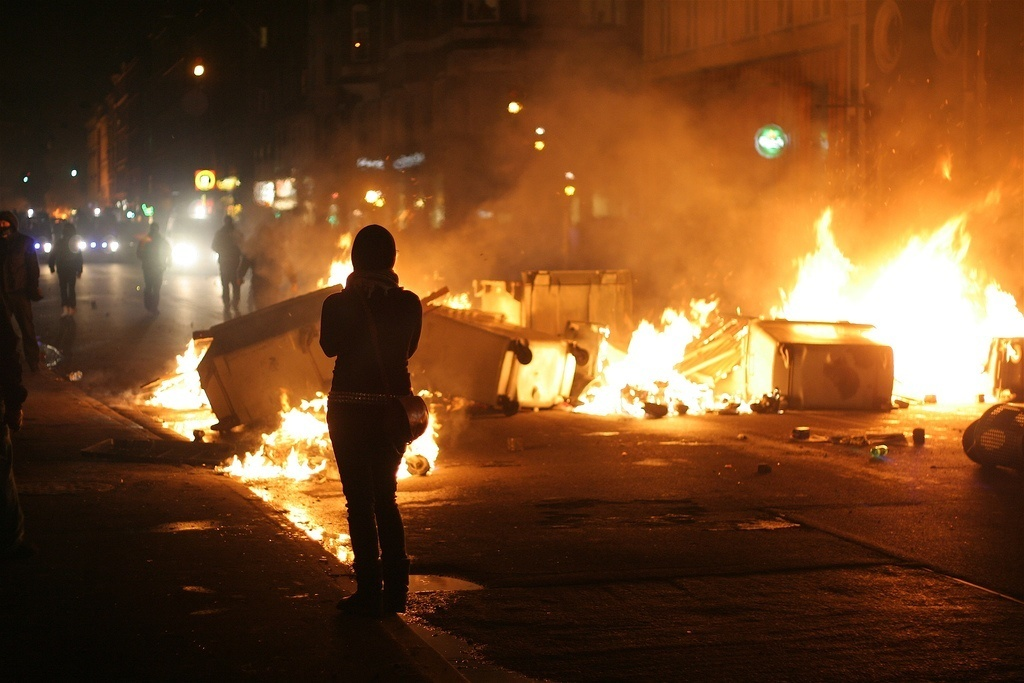fire: (491, 200, 1023, 424), (231, 386, 330, 478), (148, 331, 213, 424), (398, 391, 444, 479), (433, 280, 523, 321), (319, 233, 352, 289)
